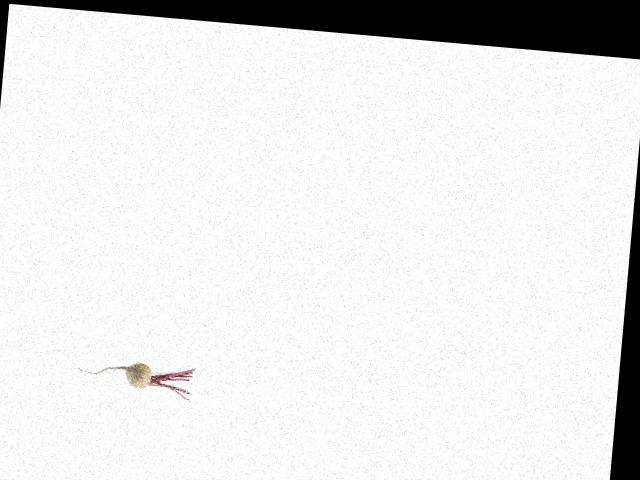beet: (75, 357, 194, 399)
